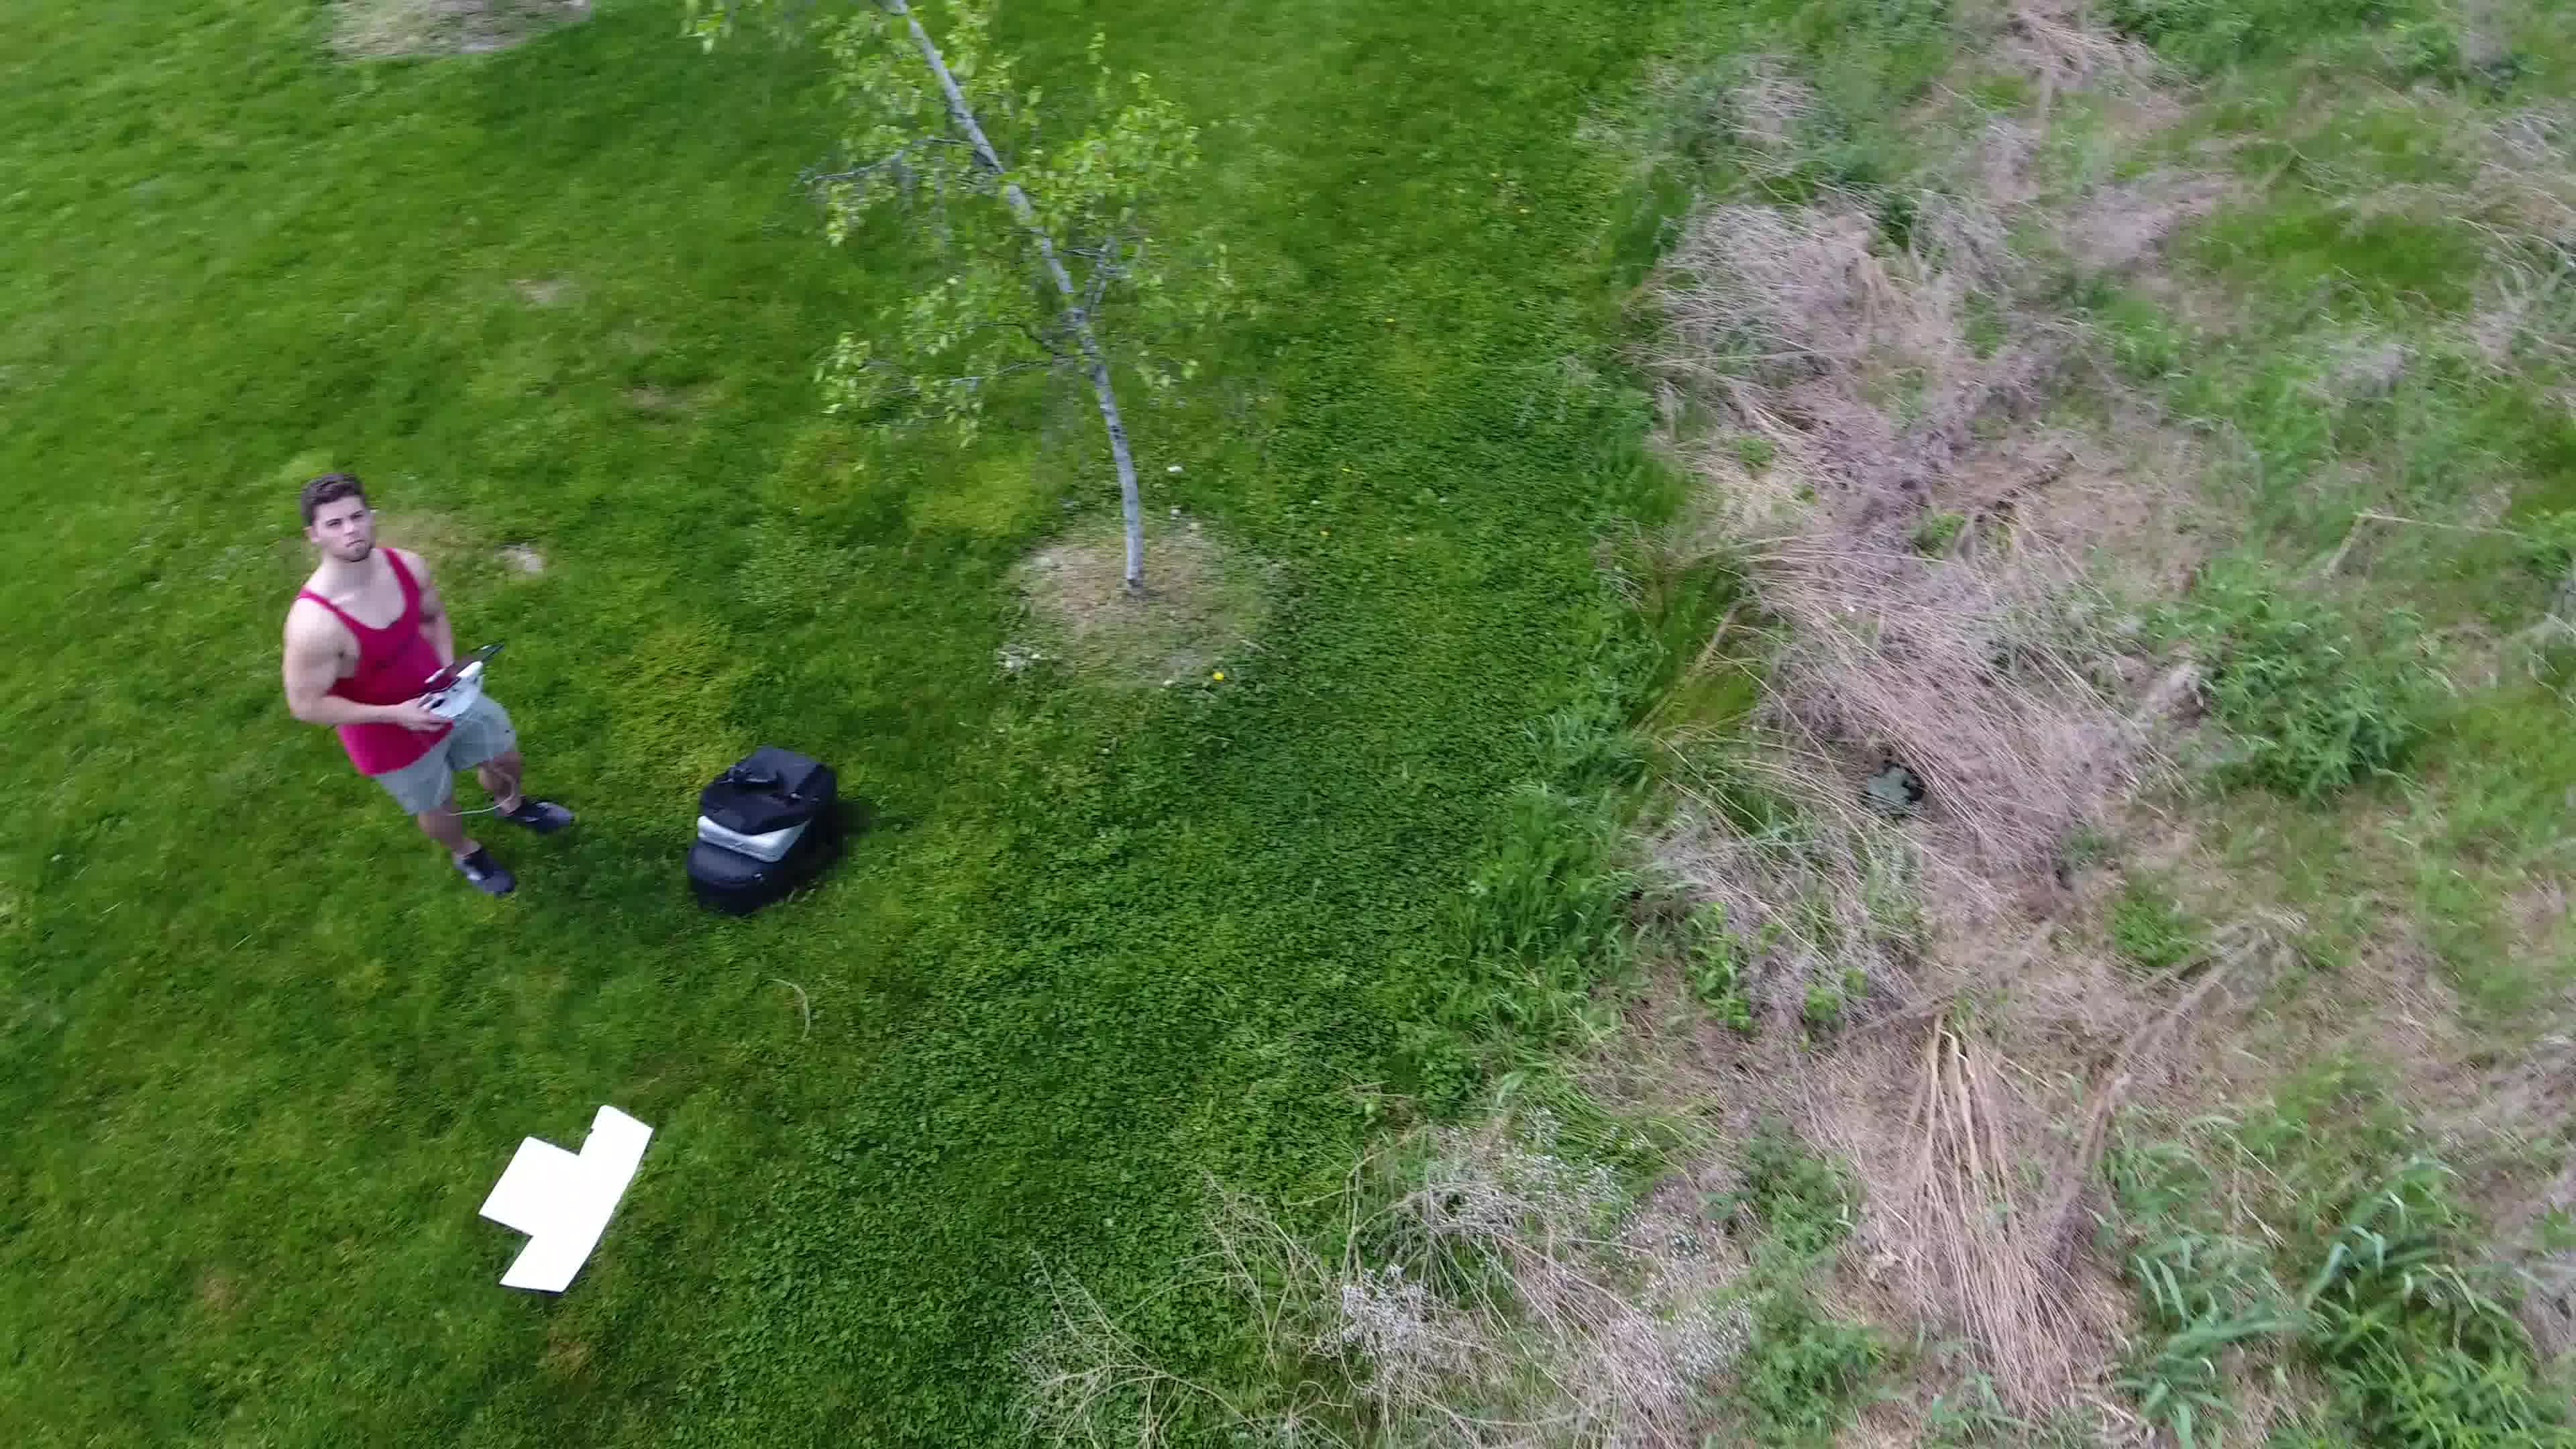transporter9: (1863, 752, 1923, 810)
